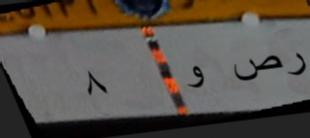8: (79, 67, 113, 101)
raa: (287, 44, 310, 85)
saad: (233, 53, 285, 88)
waw: (185, 58, 208, 100)
